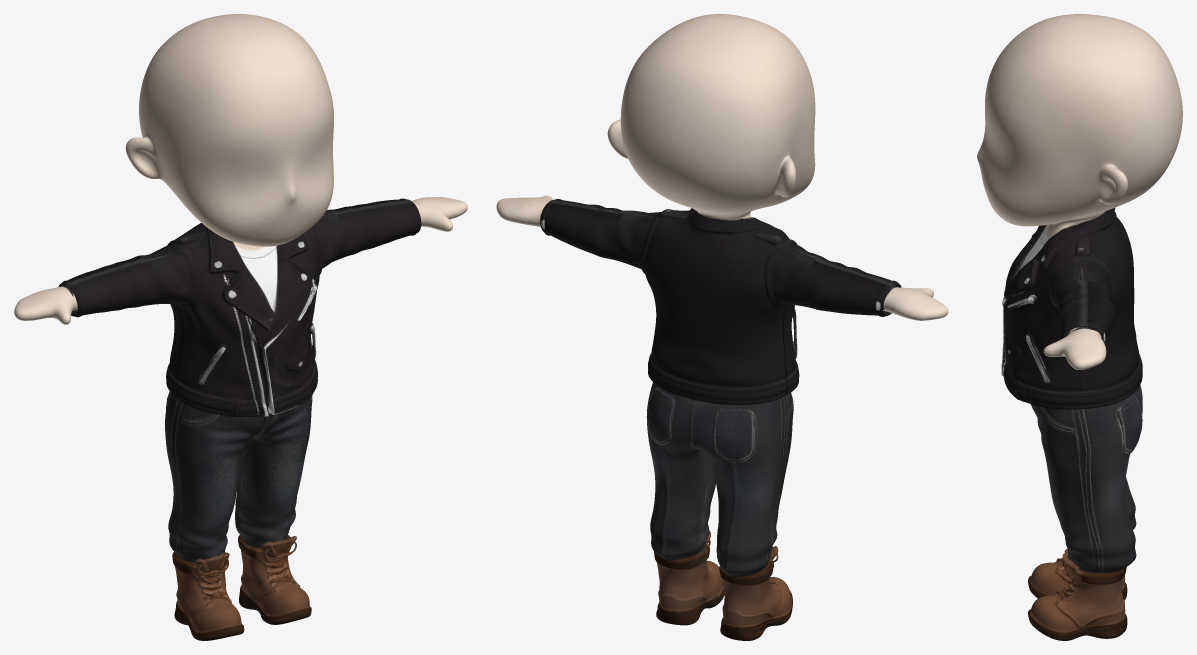
The model's file is baked_noutfit_biker.glb.
3 renders of one model, left to right at view 1: azimuth 30°, elevation 25°; view 2: azimuth 150°, elevation 25°; view 3: azimuth 270°, elevation 25°, orthographic.
Size of the model in its own units: 1.51 by 1.9 by 0.6004.
Materials: 1 (1 with a texture image).
